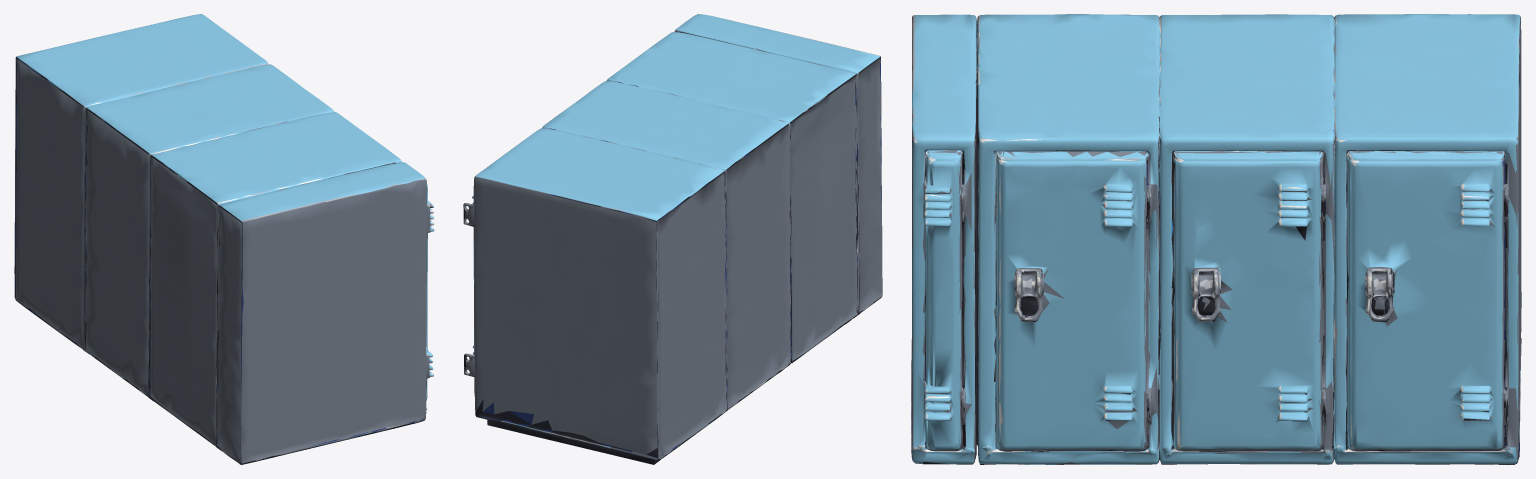
Rendered from SM_lockers_teal.fbx.
3 views of the same model, side by side, from view 1: azimuth 30°, elevation 25°; view 2: azimuth 150°, elevation 25°; view 3: azimuth 270°, elevation 25° (orthographic). The views are drawn at different scales.
Parts seen in each view (by area): view 1: SM_lockers_teal; view 2: SM_lockers_teal; view 3: SM_lockers_teal.
Part boxes in pixels (bbox=[...]): SM_lockers_teal: bbox=[14, 14, 434, 464]; SM_lockers_teal: bbox=[463, 14, 882, 464]; SM_lockers_teal: bbox=[911, 14, 1521, 464].
Bounding box in the file's own units: 161 × 180 × 294.
Materials: 1 (1 with a texture image).
